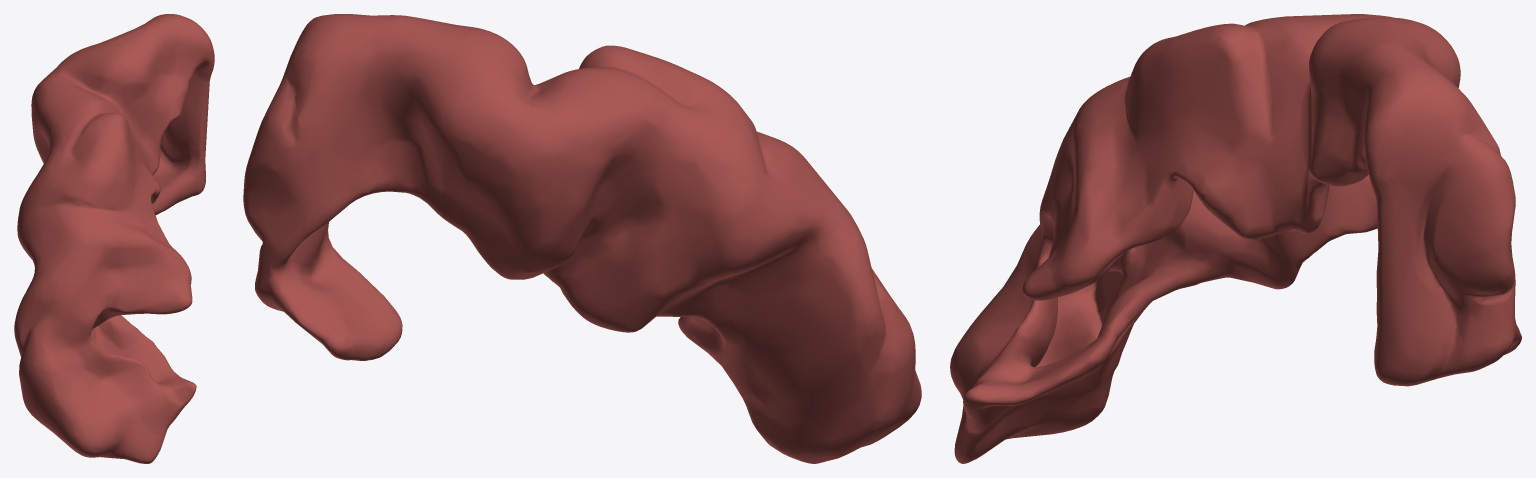
The model's file is FMA72661.glb.
3 views of the same model, side by side, from view 1: azimuth 30°, elevation 25°; view 2: azimuth 150°, elevation 25°; view 3: azimuth 270°, elevation 25° (orthographic). The views are drawn at different scales.
Visible parts, largest first — view 1: FMA72661; view 2: FMA72661; view 3: FMA72661.
Part boxes in pixels (x1=…): FMA72661: x1=14, y1=14, x2=214, y2=463; FMA72661: x1=243, y1=14, x2=921, y2=463; FMA72661: x1=950, y1=14, x2=1521, y2=463.
Size of the model in its own units: 0.0592 by 0.0626 by 0.062.
